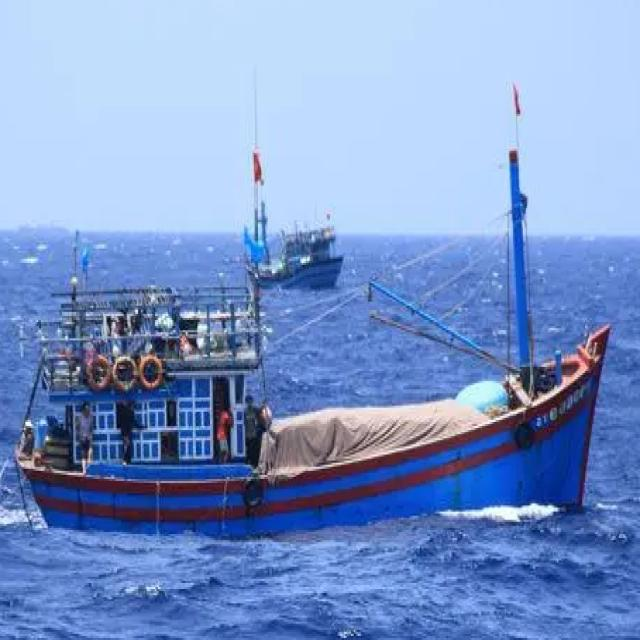fishing boat: (22, 143, 618, 538), (242, 141, 347, 283)
